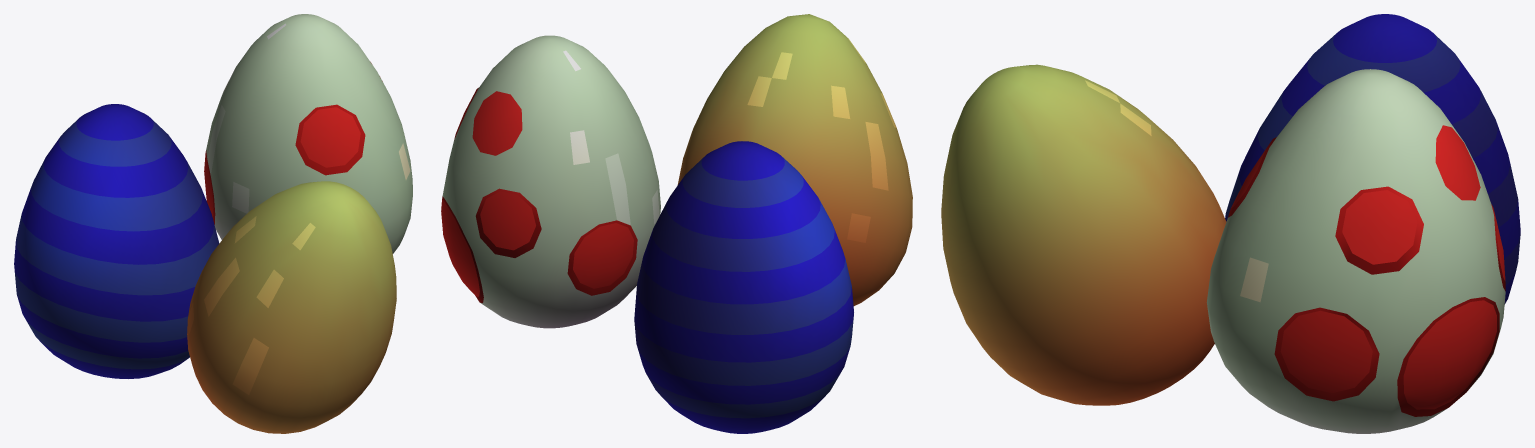
Rendered from eggs.fbx.
The picture shows the model from 3 angles, left to right: view 1: azimuth 30°, elevation 25°; view 2: azimuth 150°, elevation 25°; view 3: azimuth 270°, elevation 25°; orthographic projection. The views are drawn at different scales.
Visible parts, largest first — view 1: egg2, egg0, egg1; view 2: egg2, egg1, egg0; view 3: egg1, egg0, egg2.
Boxes of the visible parts, x1=… form: egg2: x1=14, y1=104, x2=219, y2=378; egg0: x1=187, y1=181, x2=396, y2=433; egg1: x1=204, y1=14, x2=412, y2=253; egg2: x1=634, y1=141, x2=853, y2=433; egg1: x1=441, y1=35, x2=660, y2=328; egg0: x1=677, y1=14, x2=912, y2=305; egg1: x1=1206, y1=69, x2=1505, y2=433; egg0: x1=941, y1=64, x2=1226, y2=405; egg2: x1=1225, y1=14, x2=1520, y2=304.
Bounding box in the file's own units: 2.33 × 1.91 × 2.43.
